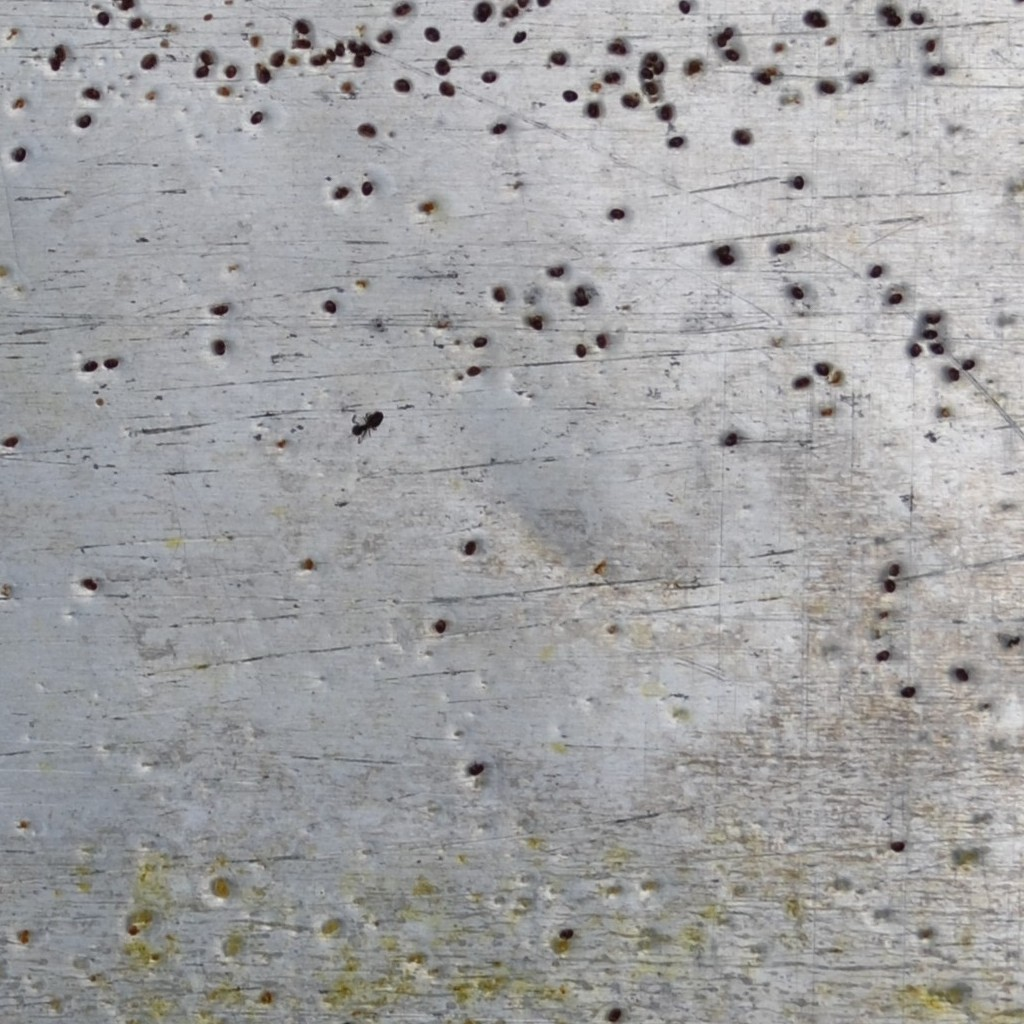varroa: (211, 333, 228, 361), (436, 77, 457, 98), (791, 374, 812, 394), (431, 56, 452, 76), (730, 125, 752, 144), (593, 328, 610, 352), (391, 2, 411, 22), (446, 42, 467, 61), (549, 46, 567, 68), (80, 573, 98, 595), (139, 51, 157, 73), (896, 681, 916, 700), (356, 120, 376, 139), (666, 132, 684, 153), (207, 303, 230, 319), (466, 758, 485, 777), (422, 25, 441, 44), (490, 118, 508, 138), (74, 111, 94, 129), (102, 353, 119, 374), (82, 84, 103, 101), (889, 837, 907, 856), (773, 239, 793, 256), (813, 360, 833, 377), (607, 39, 627, 56), (873, 647, 893, 664), (922, 310, 943, 326), (851, 67, 869, 85), (906, 342, 925, 359), (606, 1004, 623, 1023), (722, 429, 739, 448), (479, 67, 498, 84), (393, 74, 410, 93), (585, 100, 601, 120), (377, 27, 393, 47), (332, 183, 348, 203), (291, 19, 311, 35), (308, 52, 329, 67), (908, 8, 925, 26), (886, 290, 904, 307), (723, 47, 741, 64), (80, 359, 98, 376), (954, 664, 970, 683), (462, 538, 478, 557), (269, 48, 285, 67), (620, 94, 640, 109), (433, 615, 448, 635), (256, 65, 271, 85), (658, 101, 672, 122), (3, 431, 20, 448), (197, 49, 214, 66), (928, 340, 946, 356), (868, 263, 884, 281), (789, 284, 807, 300), (558, 924, 574, 942), (12, 145, 28, 163), (919, 327, 941, 340), (755, 71, 774, 86), (512, 27, 527, 46), (195, 63, 210, 82), (887, 558, 901, 578), (323, 296, 337, 316), (291, 38, 311, 52), (118, 1, 139, 14), (961, 356, 977, 373), (527, 315, 543, 332), (929, 63, 947, 78), (791, 174, 806, 192), (643, 79, 658, 97), (465, 364, 483, 379), (127, 14, 142, 32), (653, 57, 666, 77), (676, 0, 693, 15), (604, 68, 621, 83), (608, 207, 625, 222), (807, 17, 828, 29), (561, 89, 579, 103), (547, 265, 565, 279), (360, 179, 374, 197), (249, 108, 263, 126), (224, 63, 238, 81), (818, 81, 837, 94), (882, 576, 895, 595), (718, 252, 734, 267), (573, 292, 589, 307), (492, 286, 507, 302), (947, 365, 961, 382), (575, 342, 588, 360), (54, 44, 67, 62), (885, 15, 902, 28), (880, 4, 898, 16), (335, 39, 347, 57), (641, 65, 656, 79), (49, 57, 63, 72), (715, 31, 727, 48), (354, 52, 366, 69), (325, 46, 337, 63), (473, 4, 493, 14), (474, 333, 488, 347), (924, 36, 937, 51), (721, 25, 734, 40), (474, 11, 490, 23), (803, 9, 822, 19), (502, 7, 519, 18), (361, 43, 373, 56), (347, 40, 359, 51), (516, 0, 529, 9), (537, 0, 550, 8), (647, 54, 658, 62)
